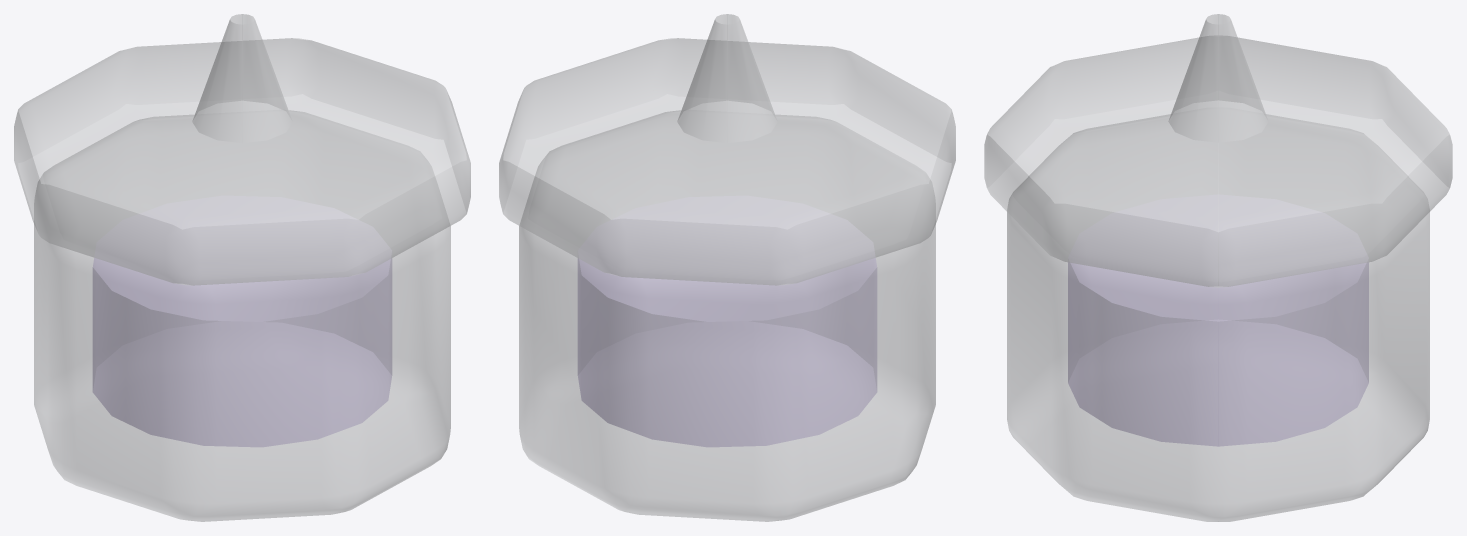
The model's file is heavy-glass-dappen-dish.glb.
3 views of the same model, side by side, from view 1: azimuth 30°, elevation 25°; view 2: azimuth 150°, elevation 25°; view 3: azimuth 270°, elevation 25° (orthographic).
Visible parts, largest first — view 1: dappen_OctagonalJar, dappen_GlassLid, dappen_MonomerLiquid, dappen_TeardropFinial; view 2: dappen_OctagonalJar, dappen_GlassLid, dappen_MonomerLiquid, dappen_TeardropFinial; view 3: dappen_OctagonalJar, dappen_GlassLid, dappen_MonomerLiquid, dappen_TeardropFinial.
Part boxes in pixels (x1,y1,x2,y2): dappen_OctagonalJar: [34, 110, 450, 521]; dappen_GlassLid: [14, 38, 470, 285]; dappen_MonomerLiquid: [93, 258, 391, 446]; dappen_TeardropFinial: [192, 14, 292, 143]; dappen_OctagonalJar: [519, 110, 935, 521]; dappen_GlassLid: [499, 38, 955, 285]; dappen_MonomerLiquid: [578, 258, 876, 446]; dappen_TeardropFinial: [677, 14, 777, 143]; dappen_OctagonalJar: [1007, 114, 1429, 521]; dappen_GlassLid: [984, 35, 1452, 287]; dappen_MonomerLiquid: [1068, 262, 1368, 446]; dappen_TeardropFinial: [1168, 14, 1268, 142].
Size of the model in its own units: 0.0747 by 0.0745 by 0.0747.
